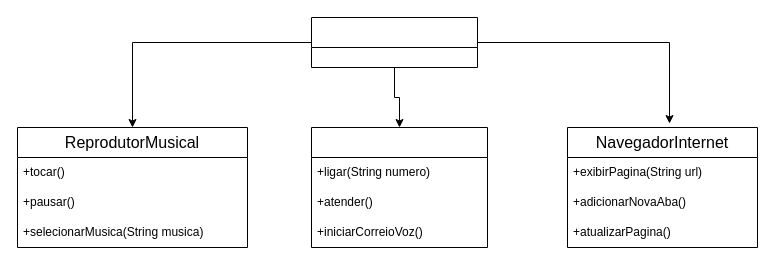
Some shapes in this 775 by 265 pixel diagram are drawn without their labels. The shapes that lost their labels are listed below. From the top down, each one's box as (x1, y1, x2, y2) in pixels, then its label:
(310, 16, 478, 68): Iphone
(310, 126, 488, 248): Aparelhotelefônico
